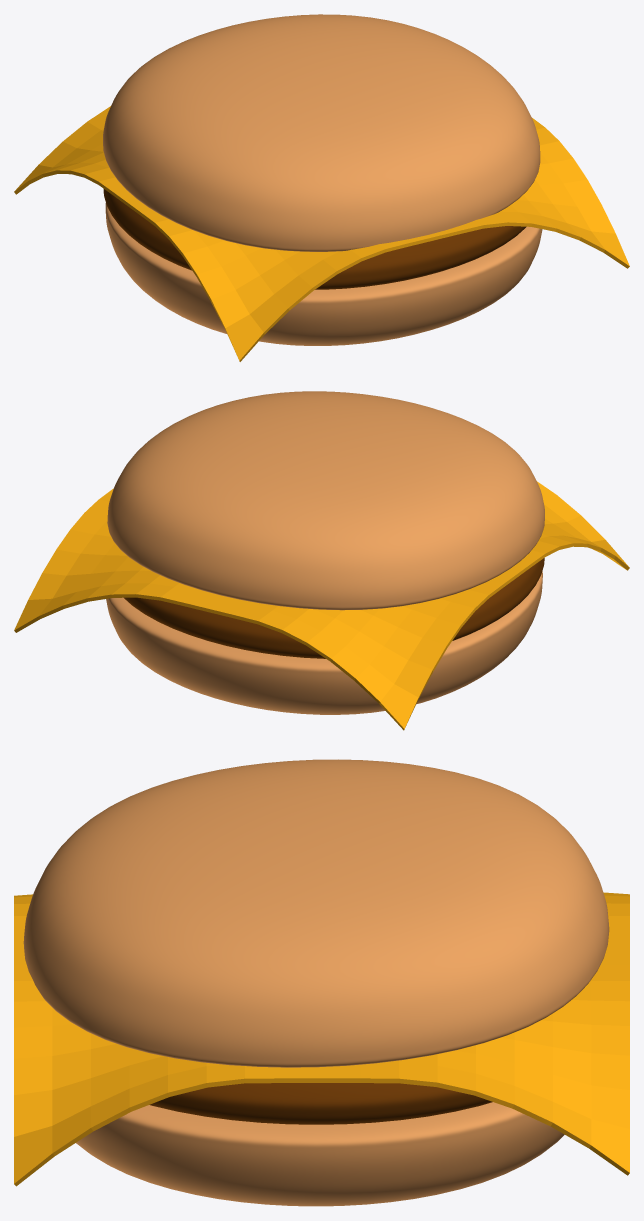
Rendered from hamburger.glb.
The picture shows the model from 3 angles, top to bottom: view 1: azimuth 30°, elevation 25°; view 2: azimuth 150°, elevation 25°; view 3: azimuth 270°, elevation 25°; orthographic projection. The views are drawn at different scales.
Visible parts, largest first — view 1: breadAbove, cheese, breadBelow, Meat; view 2: breadAbove, cheese, breadBelow, Meat; view 3: breadAbove, cheese, breadBelow, Meat.
Boxes of the visible parts, box(x1,y1,x2,y2) form: breadAbove: box(103, 14, 540, 251); cheese: box(14, 106, 629, 361); breadBelow: box(105, 203, 542, 345); Meat: box(103, 189, 526, 289); breadAbove: box(107, 391, 544, 610); cheese: box(14, 481, 629, 730); breadBelow: box(106, 571, 542, 714); Meat: box(124, 558, 544, 658); breadAbove: box(23, 759, 609, 1067); cheese: box(14, 892, 629, 1186); breadBelow: box(76, 1102, 564, 1206); Meat: box(149, 1083, 492, 1124).
Bounding box in the file's own units: 9.6 × 5.13 × 9.6.
